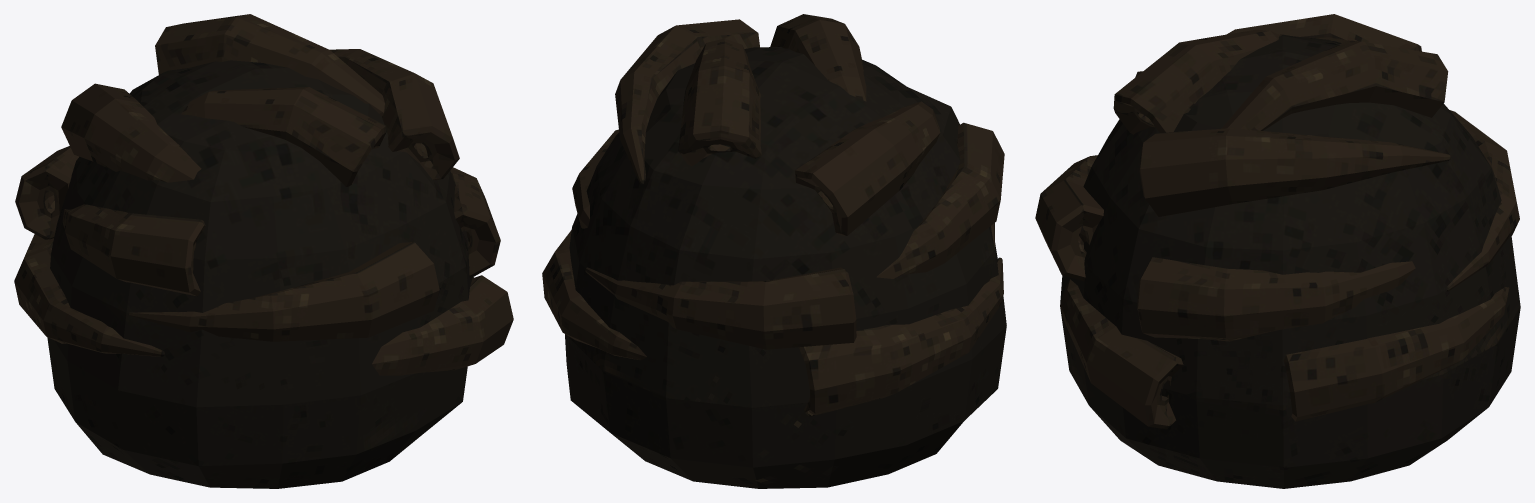
The model's file is Boss_LeachKingP2.fbx.
3 views of the same model, side by side, from view 1: azimuth 30°, elevation 25°; view 2: azimuth 150°, elevation 25°; view 3: azimuth 270°, elevation 25° (orthographic). The views are drawn at different scales.
Parts seen in each view (by area): view 1: Boss_LeachKing_P2; view 2: Boss_LeachKing_P2; view 3: Boss_LeachKing_P2.
Part boxes in pixels (x1=…): Boss_LeachKing_P2: x1=14, y1=14, x2=513, y2=488; Boss_LeachKing_P2: x1=542, y1=14, x2=1006, y2=488; Boss_LeachKing_P2: x1=1035, y1=14, x2=1520, y2=488.
Bounding box in the file's own units: 286 × 247 × 285.
Materials: 1 (1 with a texture image).
